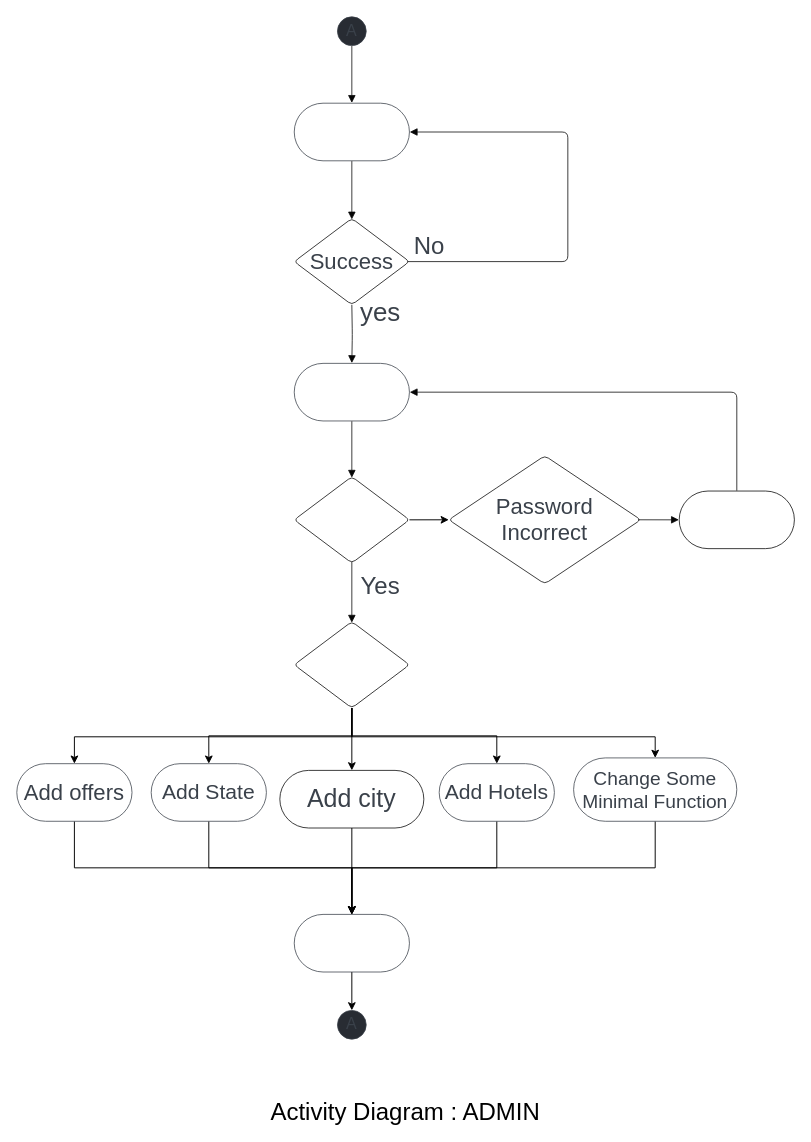
Image size: 811x1142. Some labels were removed from this diagram. Each missing label, with the box of its shape:
Add Things: (293, 621, 409, 708)
Forgot Password: (678, 490, 794, 549)
Login: (293, 362, 409, 421)
LogOut: (293, 914, 409, 972)
Registration: (293, 102, 409, 161)
Verify: (293, 476, 409, 563)
